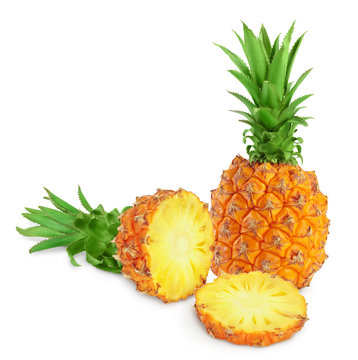Pineapple: (205, 20, 331, 289), (15, 179, 214, 305)
